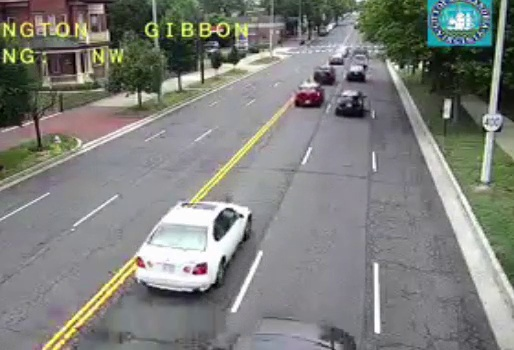car: (133, 201, 250, 291), (336, 90, 363, 116), (295, 84, 323, 106), (313, 66, 333, 84), (346, 66, 365, 81)
